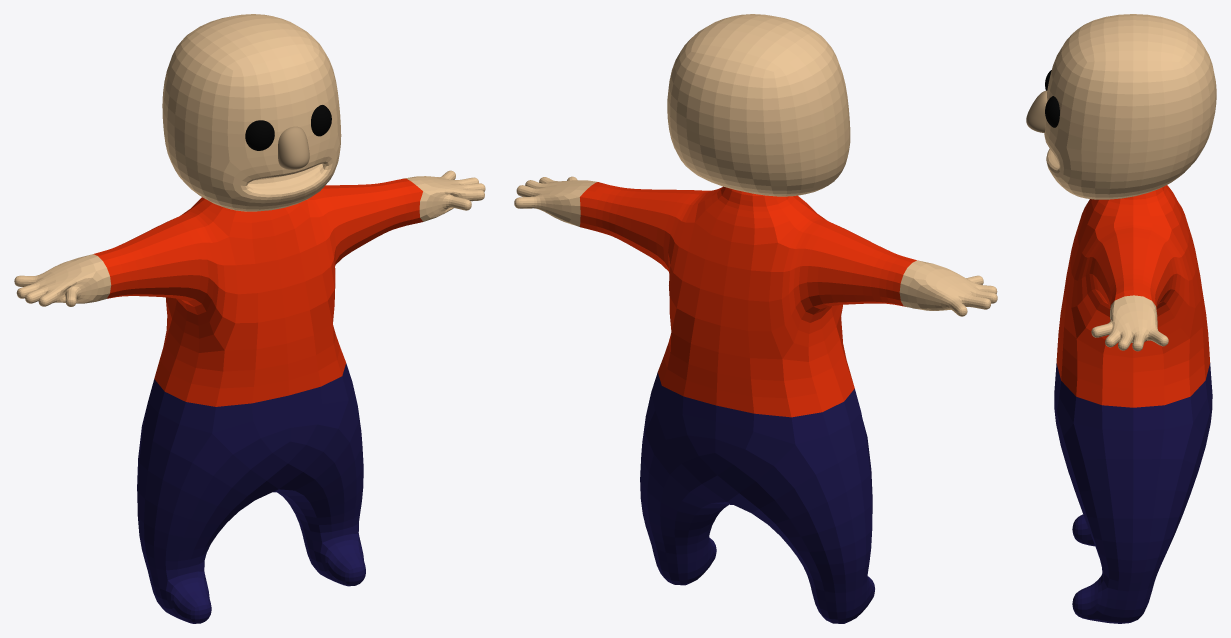
File: Character.fbx
3 views of the same model, side by side, from view 1: azimuth 30°, elevation 25°; view 2: azimuth 150°, elevation 25°; view 3: azimuth 270°, elevation 25° (orthographic). The views are drawn at different scales.
Parts seen in each view (by area): view 1: Body.002; view 2: Body.002; view 3: Body.002.
Boxes of the visible parts, bbox=[...] form: Body.002: bbox=[14, 14, 485, 623]; Body.002: bbox=[514, 14, 997, 623]; Body.002: bbox=[1026, 14, 1216, 623].
Size of the model in its own units: 121 by 142 by 43.76.
